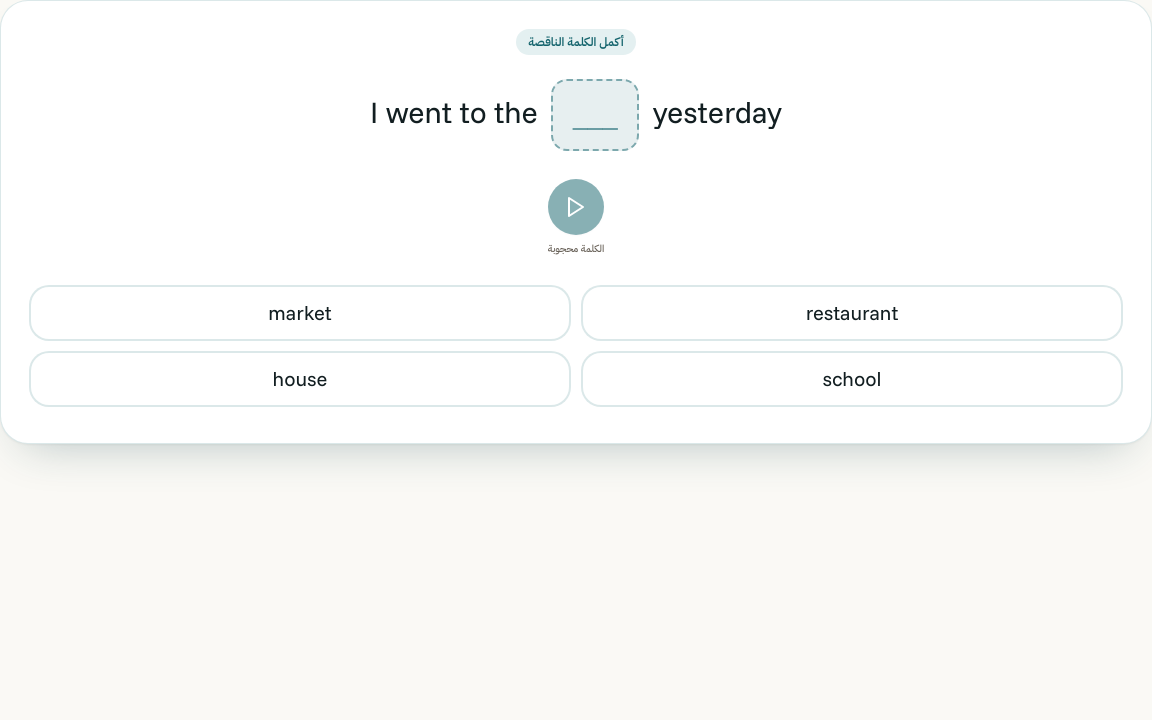
it: answering › puts the chosen word into the blank
Click the button "house": (300, 379) [29,351,571,407]
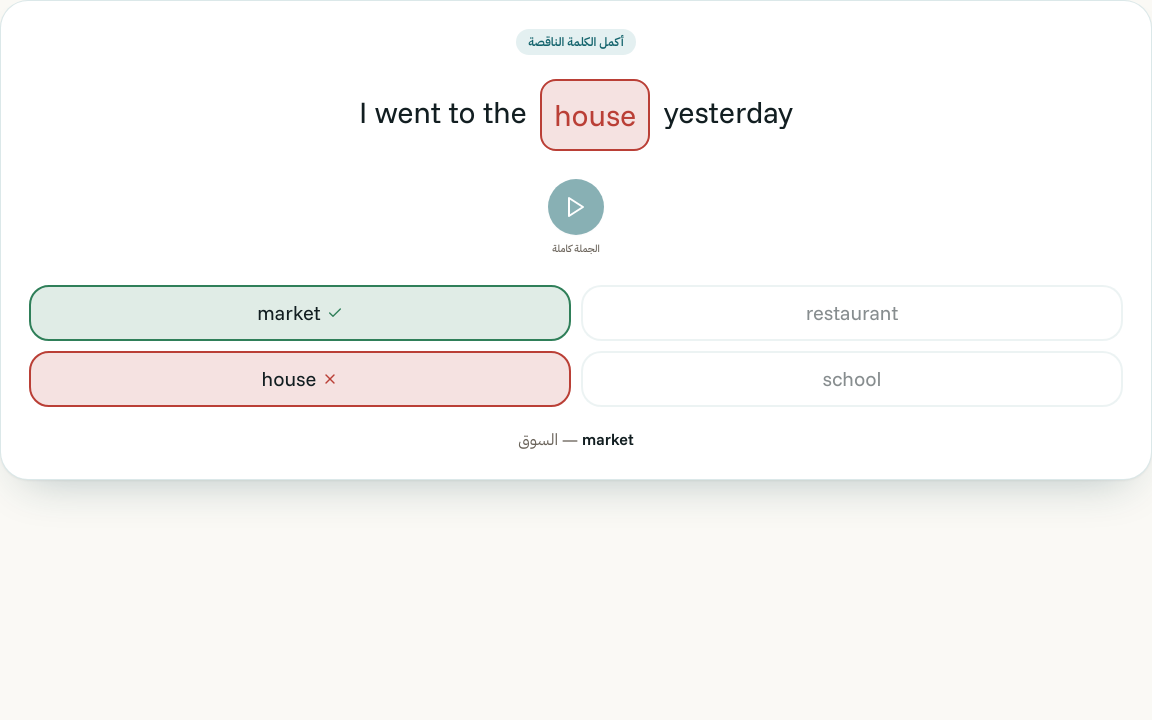
Check: the text "house" is shown, box [540,79,650,151]
